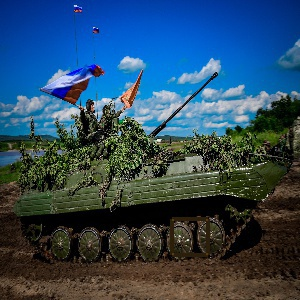square: (169, 217, 210, 258)
